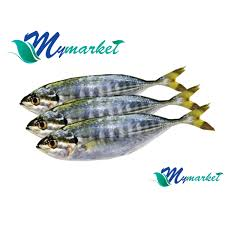Ikan Selar: (34, 119, 225, 166), (15, 69, 192, 108), (22, 106, 181, 136)
